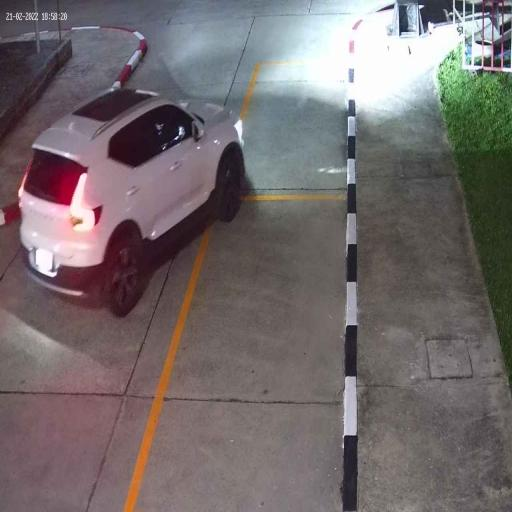car: (16, 84, 246, 316)
